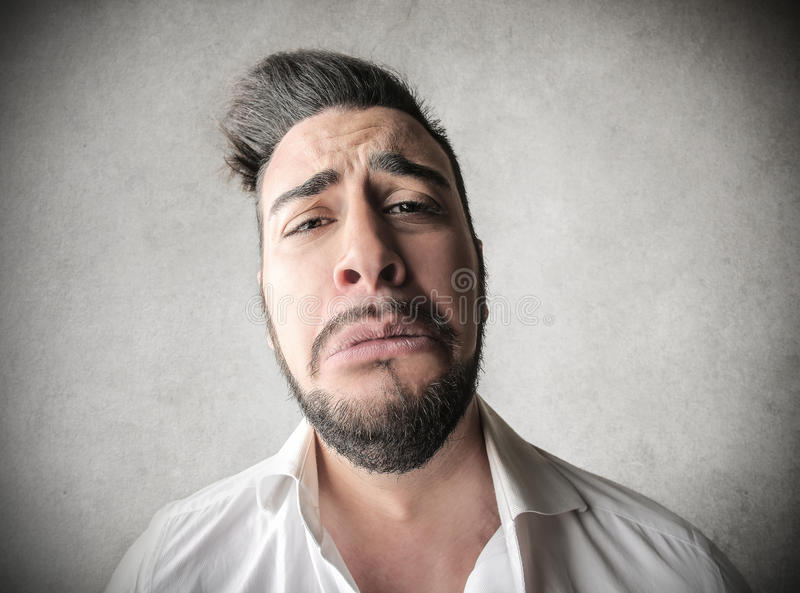sad: (237, 122, 500, 459)
